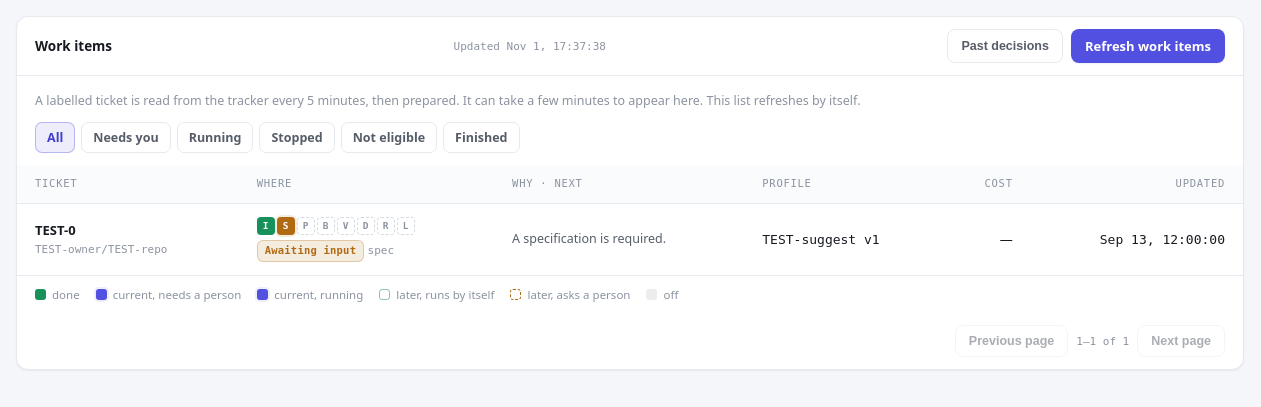
Test: says the list is stale when a re-read fails, and keeps the rows
The width and height of the screenshot is (1261, 407).
Click the button "Refresh work items". click: {"x": 1148, "y": 46}
box: [1071, 29, 1225, 63]
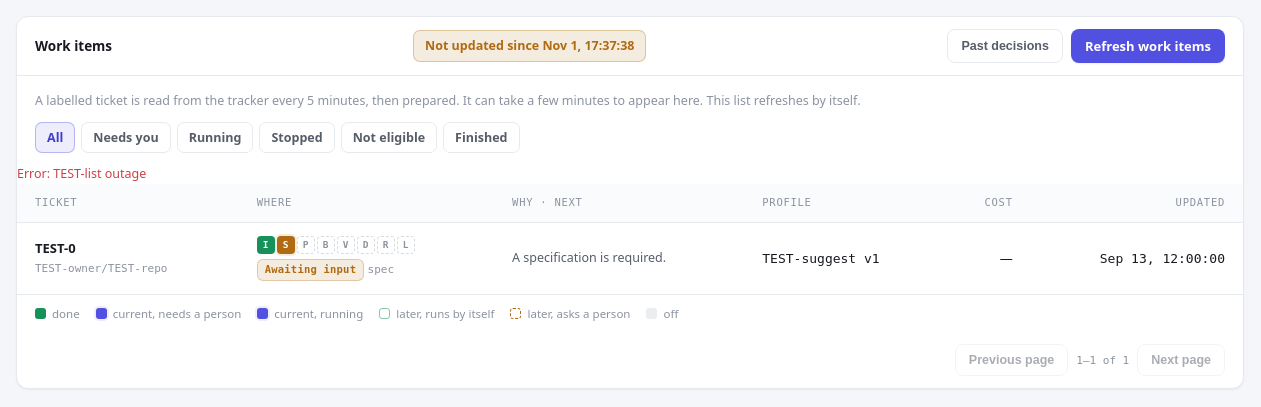
Expected: the link "TEST-0" is shown, [35, 239, 76, 257]
Result: the message shows "TEST-list outage" at [17, 165, 146, 182]
Result: the text "Not updated since Nov 1, 17:37:38" is shown at [413, 30, 646, 62]
